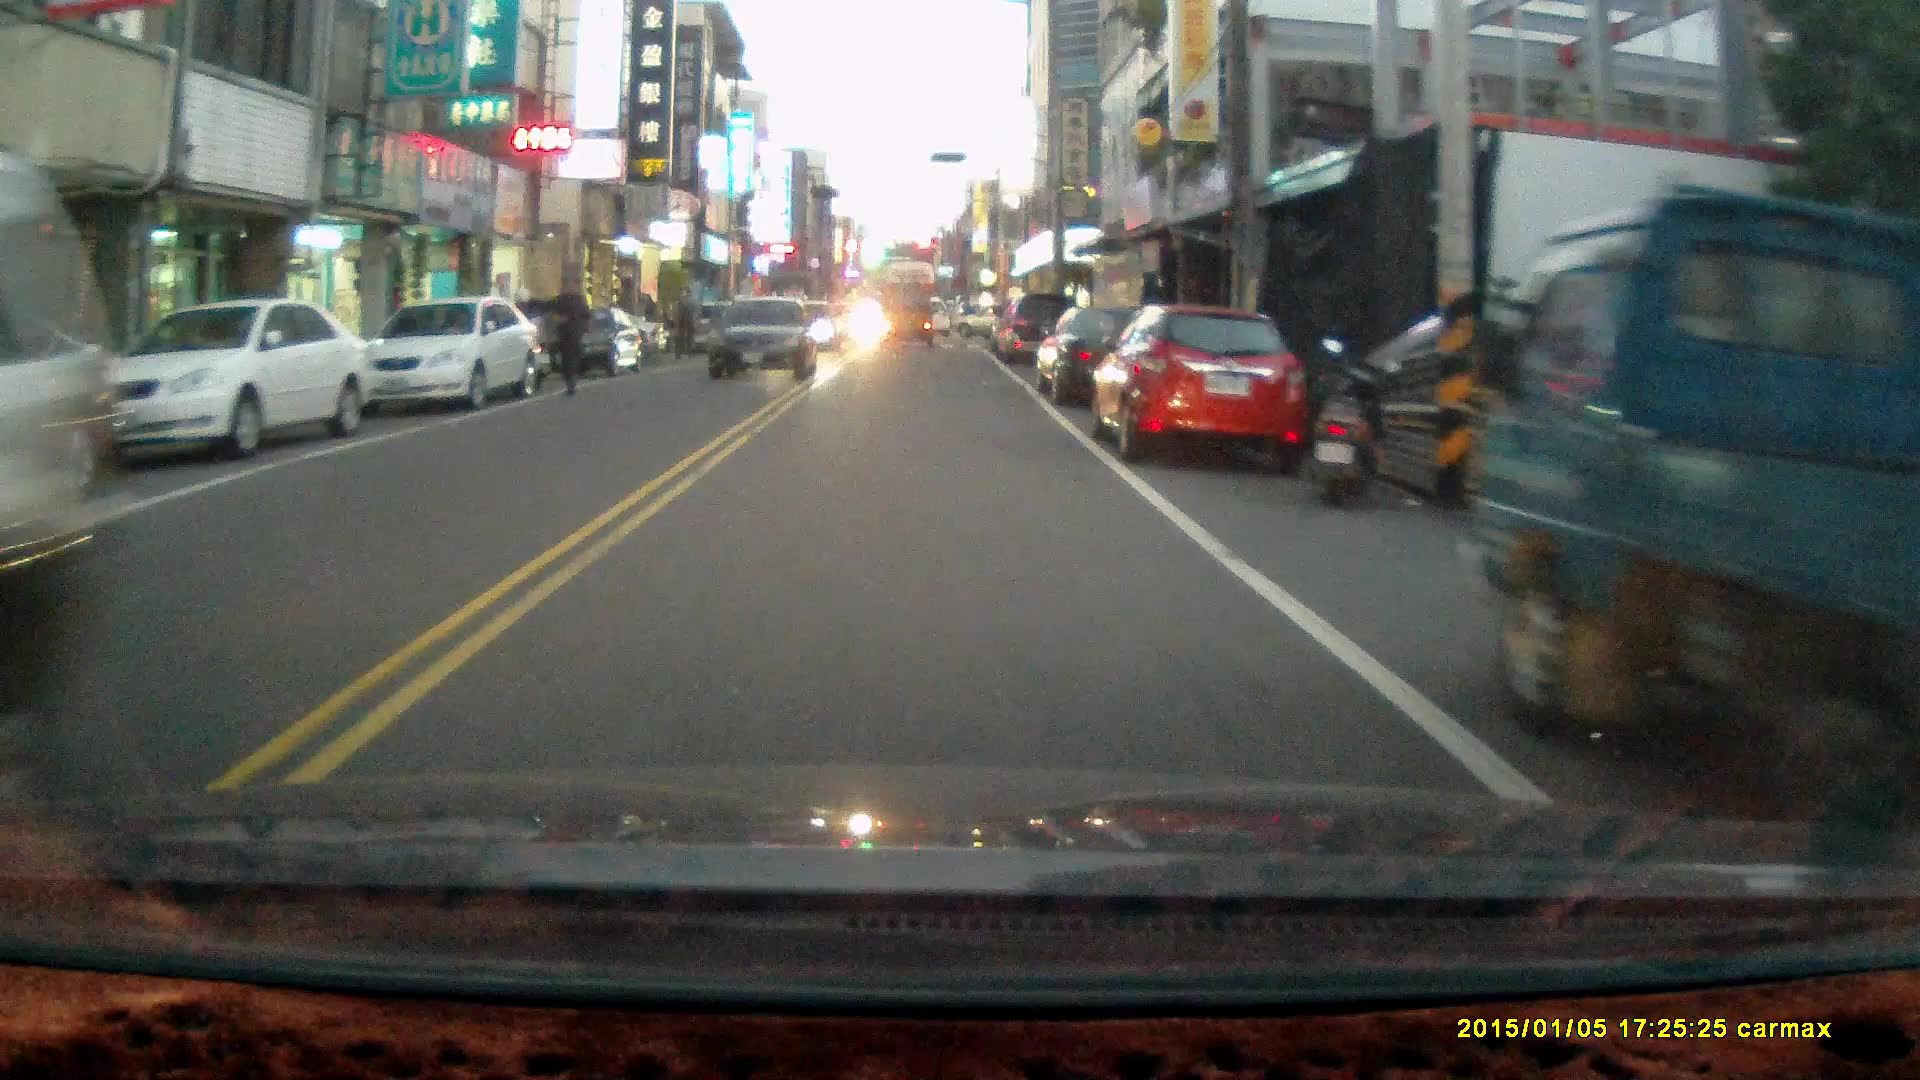pedestrian: (546, 271, 591, 394), (671, 289, 697, 356)
vehicle: (1467, 192, 1920, 849), (83, 299, 384, 452), (1092, 304, 1309, 471), (359, 293, 541, 410), (1031, 297, 1207, 406), (706, 289, 821, 380), (991, 287, 1088, 366), (547, 302, 640, 377), (875, 280, 937, 348)
